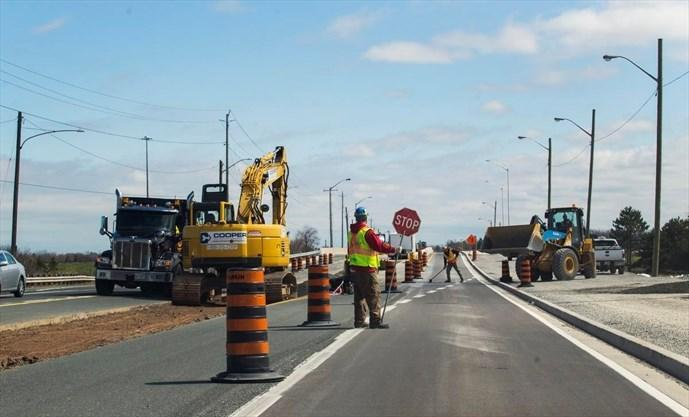car: (93, 185, 296, 305), (510, 205, 624, 294)
person: (335, 204, 399, 330)
roadcone: (215, 253, 289, 383), (303, 263, 340, 338), (384, 256, 405, 300)
